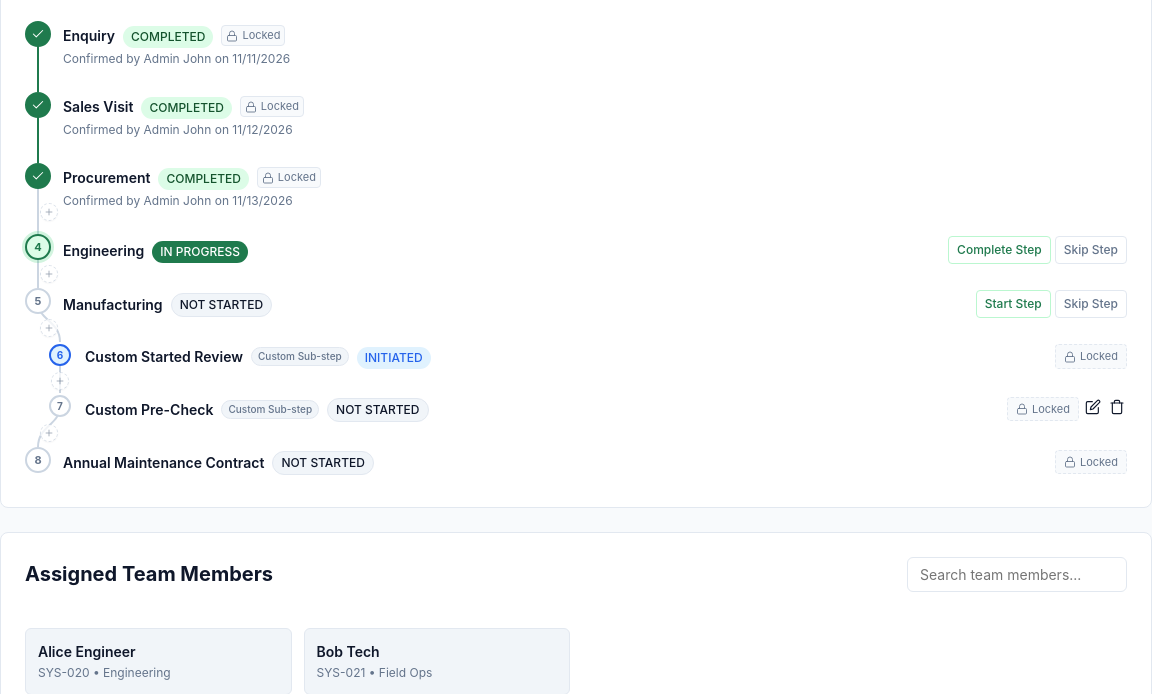
Scenario: ProjectDetailPage › opens delete sub-step confirmation modal and removes custom sub-step
(page scrolled)
Click the button with test id "delete-substep-btn-199".
click(1117, 409)  # box [1107, 395, 1127, 423]
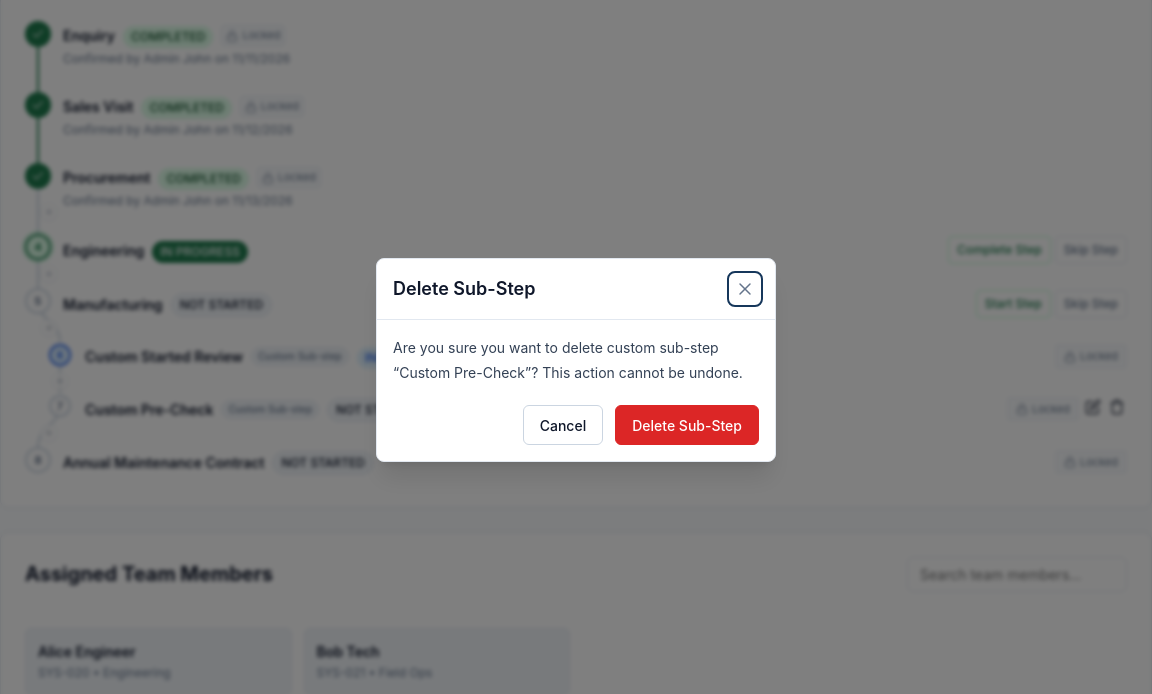
Result: the element with test id "delete-substep-modal" is shown at [393, 336, 759, 445]
Result: the text "Custom Pre-Check" is shown at [399, 364, 525, 380]
Click the button with test id "confirm-delete-substep-btn".
click(687, 425)  # box [615, 405, 759, 445]
(page scrolled)
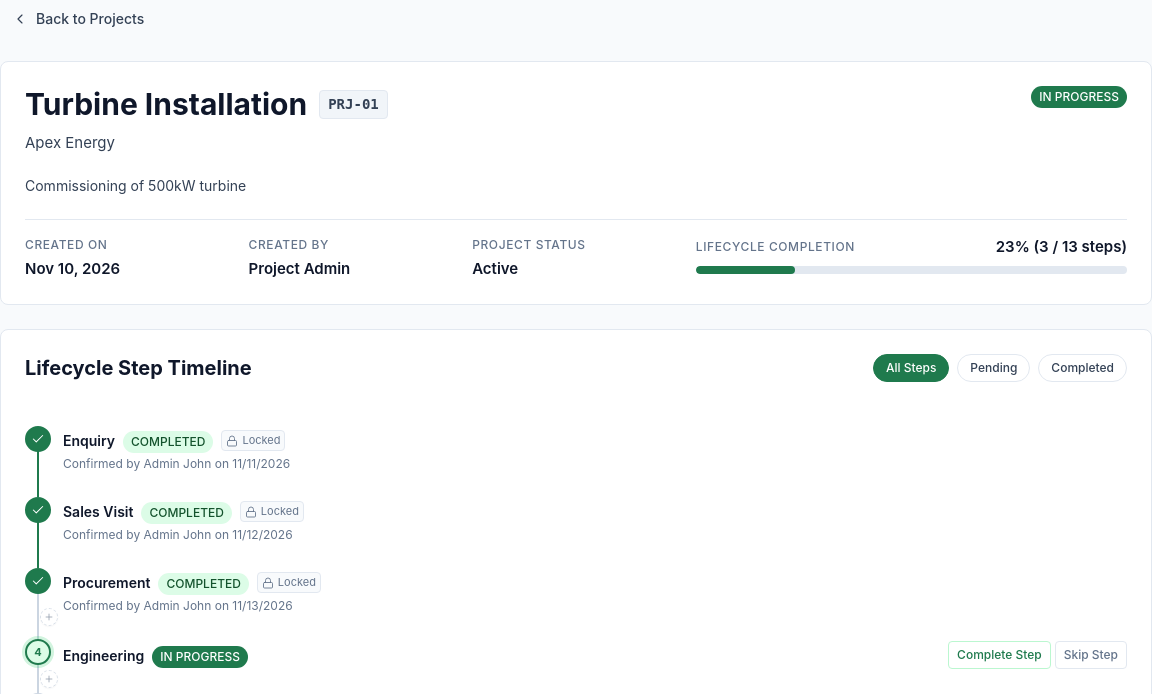
Result: the text with test id "project-progress-percentage" reads "23% (3 / 13 steps)" at [996, 236, 1127, 258]
